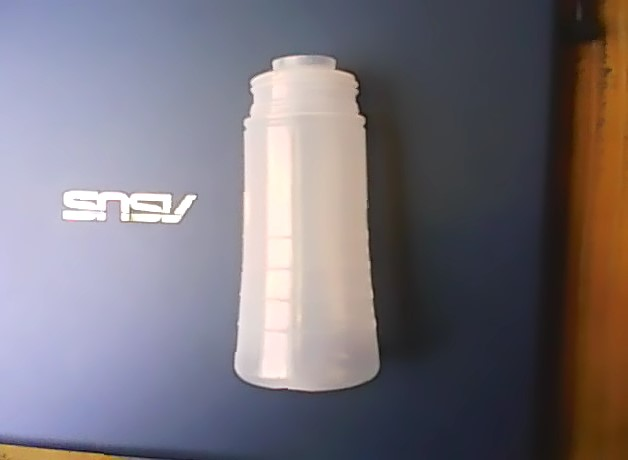Plastic: (230, 55, 386, 398)
